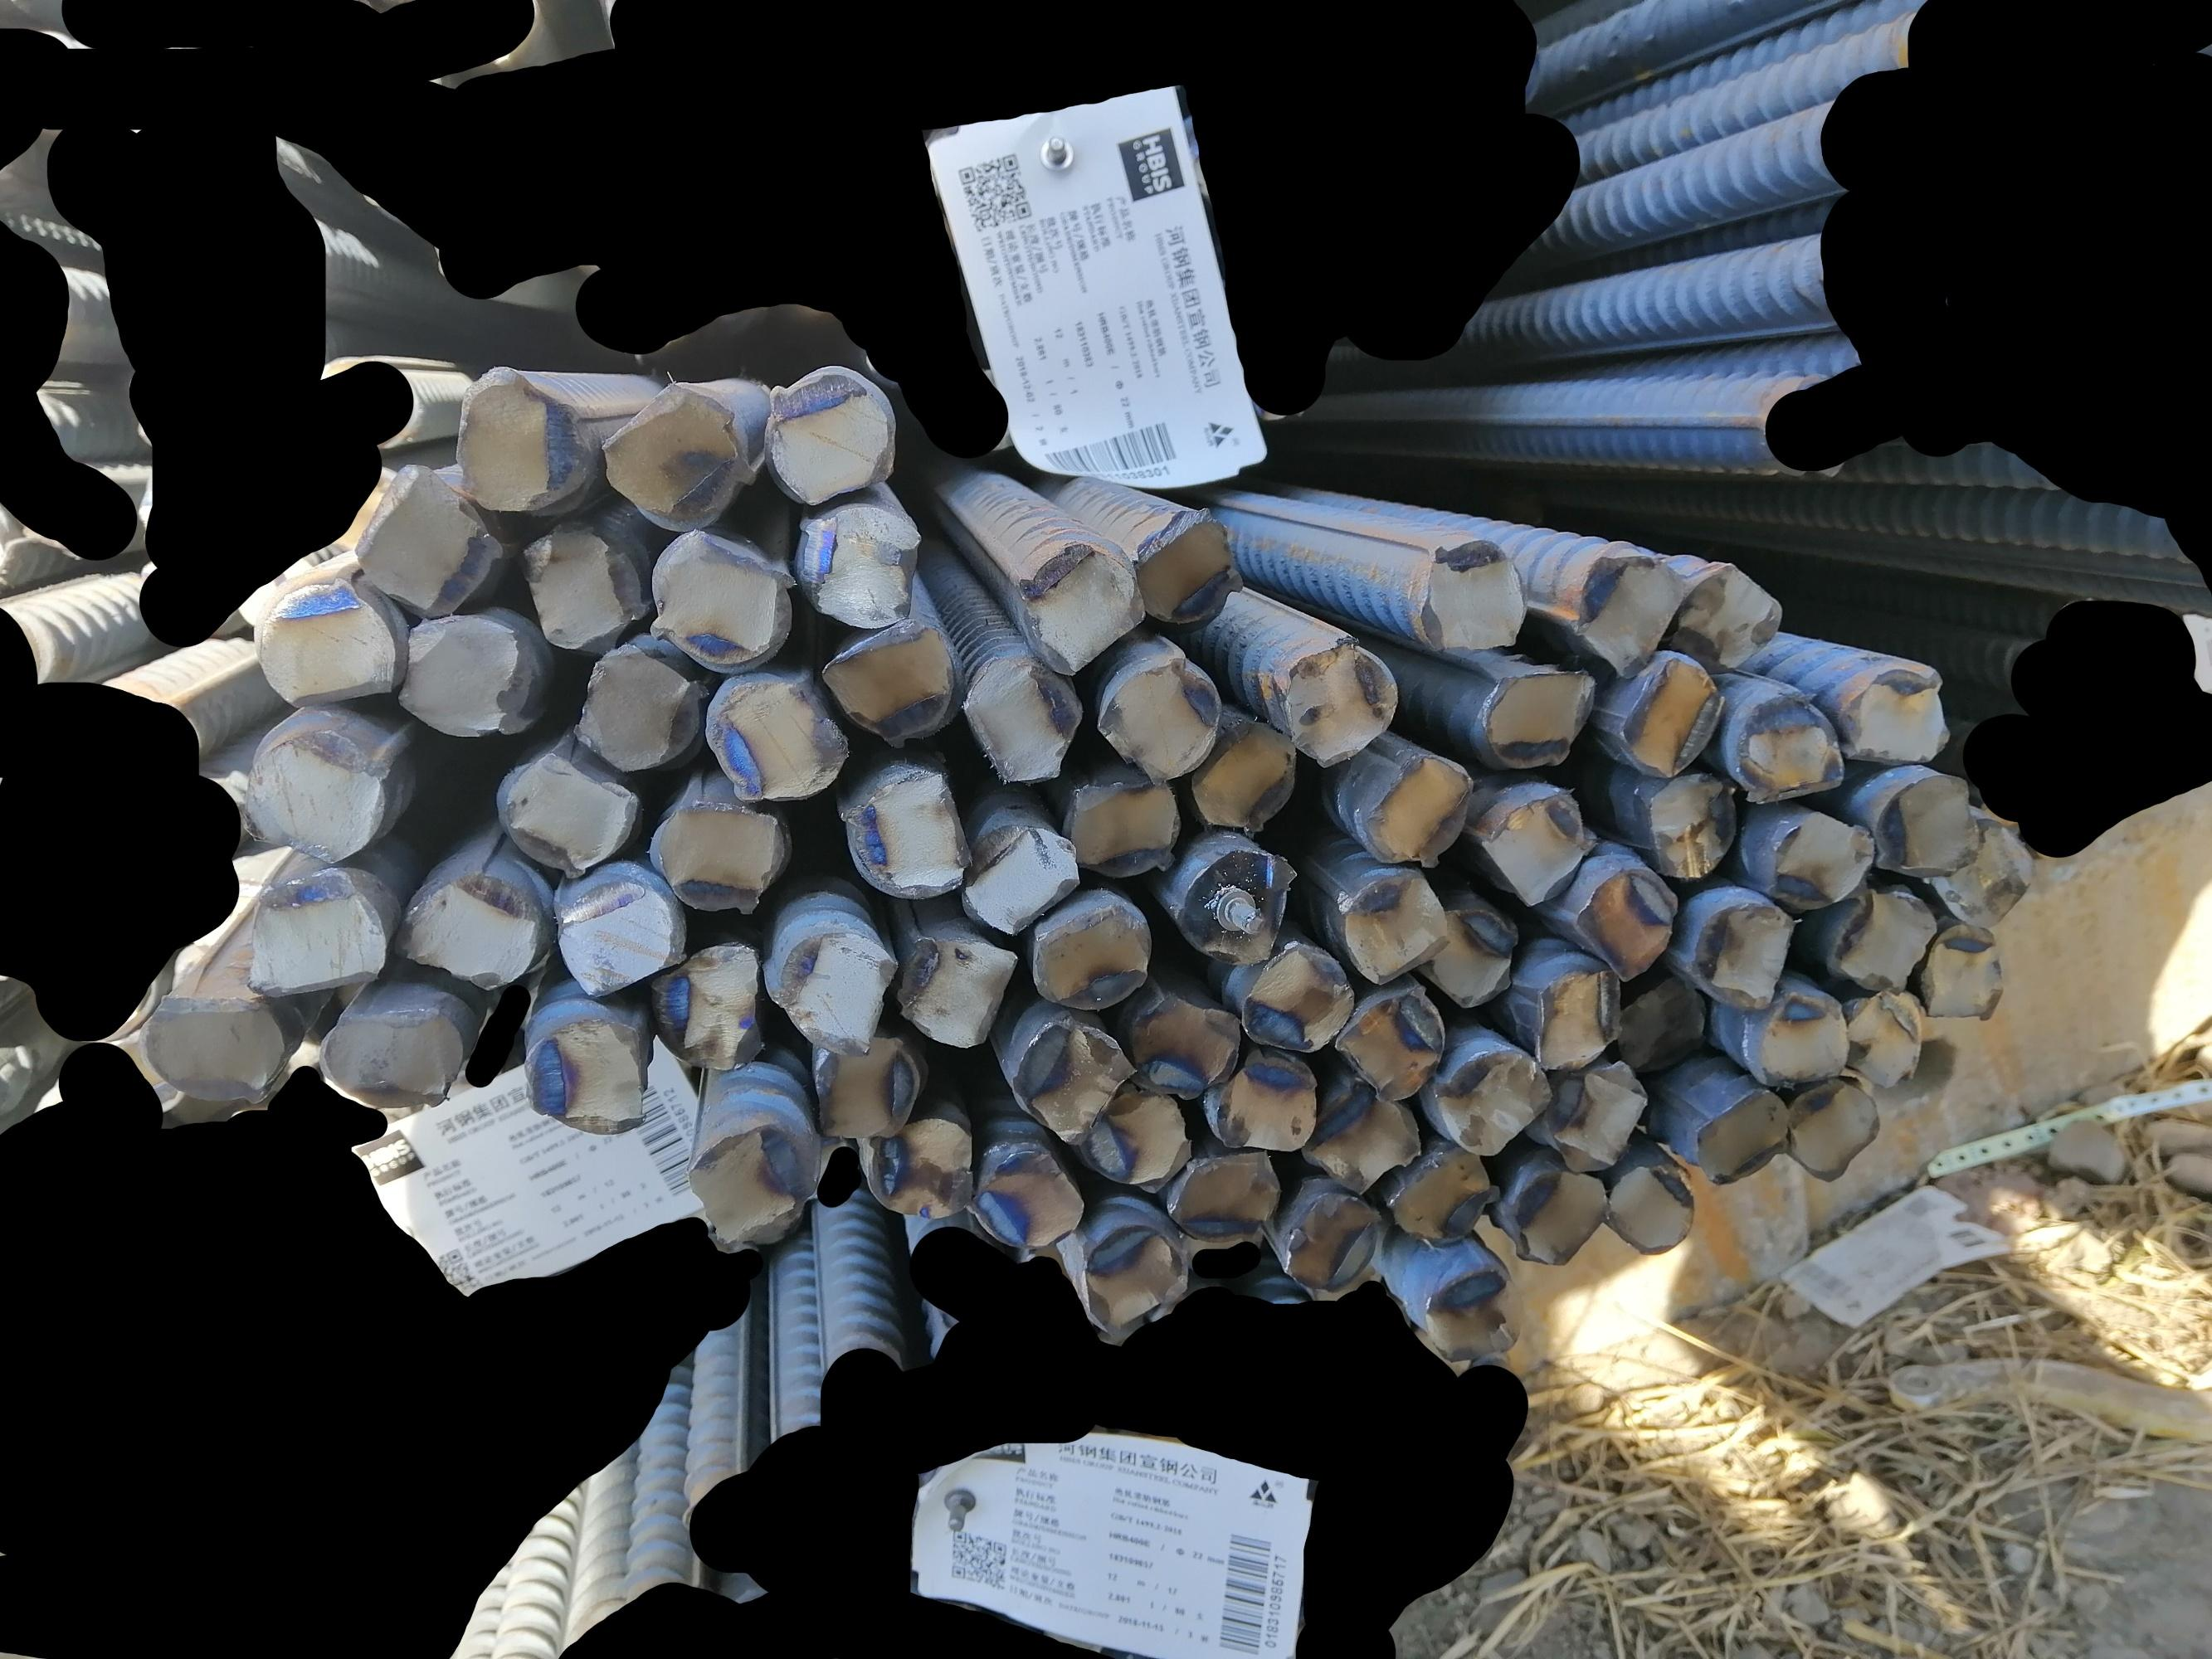bar: (596, 382, 748, 537), (647, 523, 797, 674), (357, 465, 500, 619), (760, 908, 899, 1058), (451, 366, 587, 519), (763, 366, 899, 514), (246, 727, 385, 870), (253, 582, 401, 713), (572, 636, 708, 774), (704, 669, 845, 802), (396, 617, 542, 744), (392, 868, 539, 993), (495, 756, 638, 882), (138, 993, 286, 1112), (824, 620, 957, 751), (254, 875, 390, 1002), (962, 647, 1088, 784), (650, 793, 788, 917), (553, 863, 678, 997), (842, 772, 969, 903), (793, 497, 919, 629), (695, 1117, 812, 1258), (1009, 1019, 1137, 1148), (1020, 549, 1145, 680), (891, 924, 1020, 1049), (1173, 840, 1297, 971), (518, 521, 641, 650), (1281, 638, 1400, 769), (319, 1009, 471, 1110), (1102, 655, 1220, 784), (1028, 899, 1154, 1016), (530, 1016, 647, 1140), (957, 821, 1081, 938), (657, 945, 769, 1073), (1234, 938, 1354, 1054), (1415, 532, 1530, 653), (1666, 558, 1785, 674), (1187, 716, 1302, 836), (1297, 1082, 1421, 1194), (1576, 552, 1684, 680), (1332, 992, 1450, 1107), (1436, 1042, 1555, 1157), (1621, 648, 1724, 777), (969, 1140, 1088, 1251), (1360, 751, 1473, 866), (811, 1026, 920, 1145), (1691, 890, 1799, 1011), (859, 1114, 981, 1220), (1483, 784, 1590, 906), (1734, 688, 1839, 812), (1079, 1080, 1196, 1190), (1342, 864, 1452, 981), (1079, 1222, 1187, 1340), (1572, 861, 1677, 981), (1130, 519, 1241, 631), (1131, 990, 1243, 1101), (1926, 814, 2039, 924), (1063, 774, 1178, 880), (1483, 667, 1600, 772), (1827, 885, 1942, 990), (1837, 660, 1945, 770), (1872, 770, 1977, 882), (1642, 758, 1736, 882), (1382, 1145, 1494, 1248), (1780, 1072, 1883, 1183), (1527, 962, 1628, 1073), (1424, 1256, 1527, 1364), (1279, 1192, 1389, 1293), (1766, 809, 1876, 910), (1555, 1054, 1645, 1176), (1417, 901, 1522, 1006), (1215, 1051, 1318, 1157), (1511, 1161, 1611, 1269), (1611, 965, 1708, 1075), (1842, 979, 1940, 1084), (1171, 1154, 1283, 1244), (1696, 1080, 1790, 1187), (1755, 983, 1849, 1089), (1604, 1161, 1693, 1258), (1919, 917, 2006, 1016)
